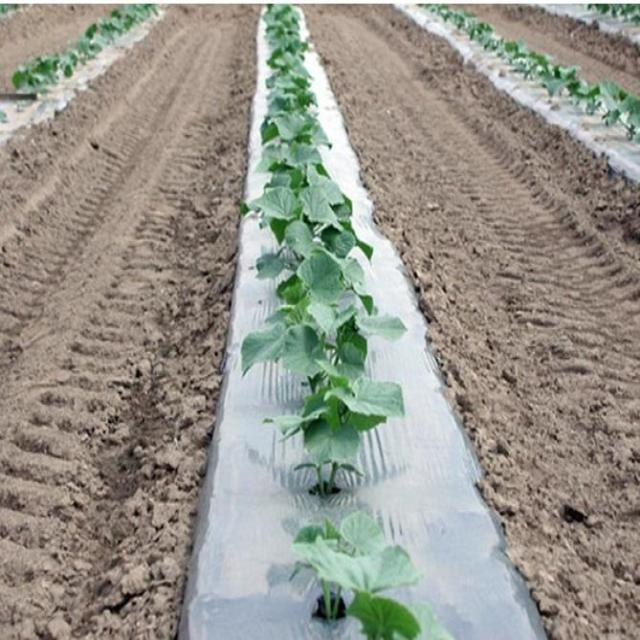row: (305, 6, 640, 640), (0, 4, 262, 640), (450, 3, 640, 103), (0, 4, 116, 94)
